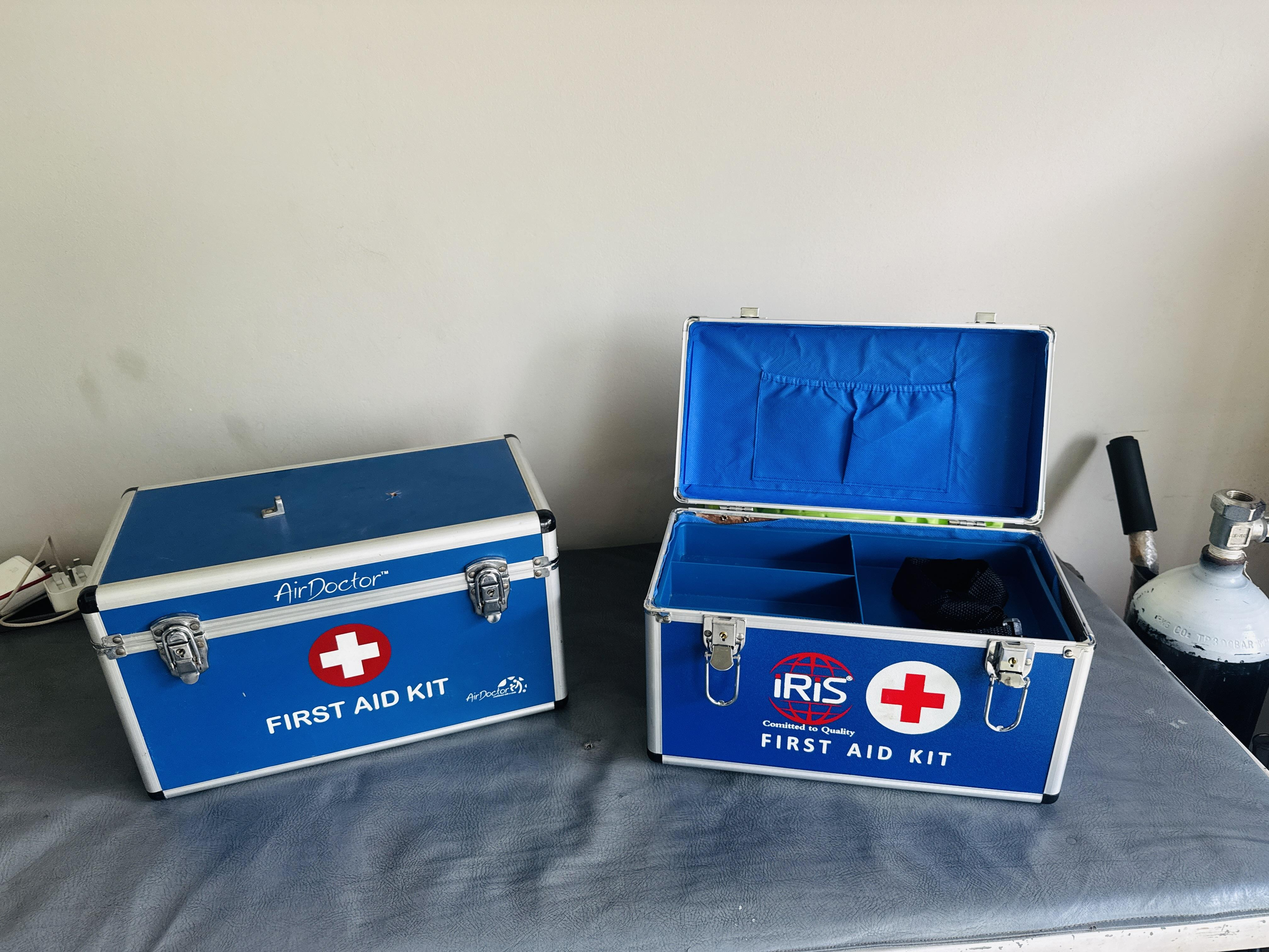FirstAidBox: (635, 290, 1105, 836), (66, 409, 587, 828)
